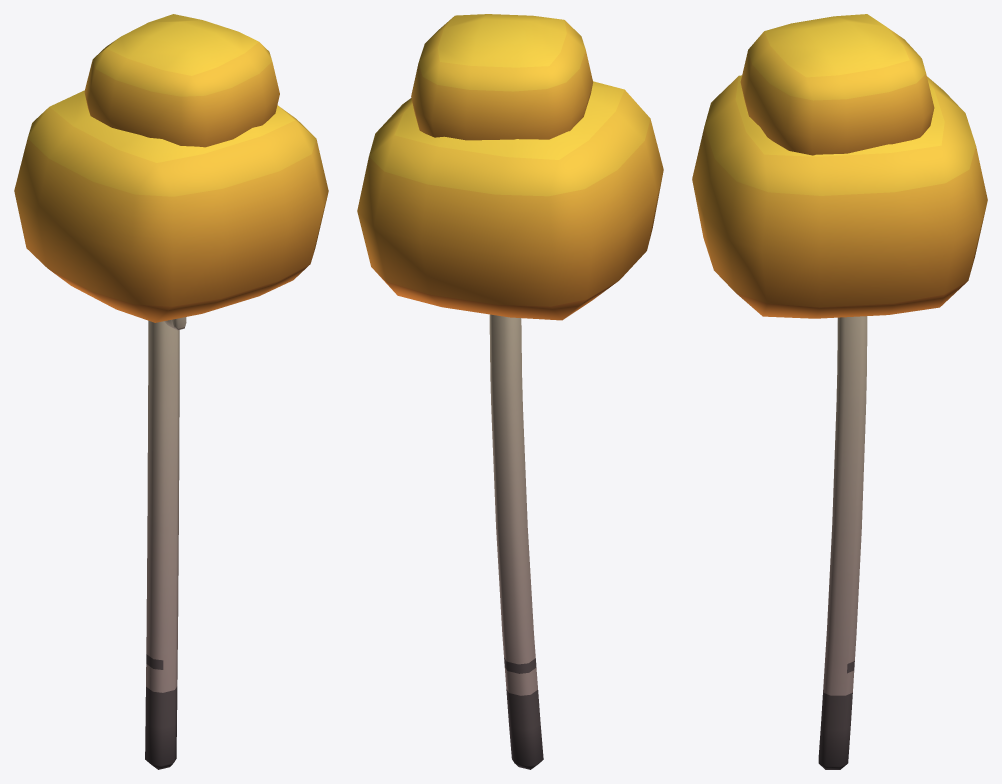
File: birch_tree_col2_09.fbx
3 renders of one model, left to right at view 1: azimuth 30°, elevation 25°; view 2: azimuth 150°, elevation 25°; view 3: azimuth 270°, elevation 25°, orthographic. The views are drawn at different scales.
Visible parts, largest first — view 1: birch_tree_col2_09; view 2: birch_tree_col2_09; view 3: birch_tree_col2_09.
Part boxes in pixels (left/top/right/bottom): birch_tree_col2_09: left=14, top=14, right=328, bottom=769; birch_tree_col2_09: left=357, top=14, right=663, bottom=769; birch_tree_col2_09: left=692, top=14, right=987, bottom=769.
Bounding box in the file's own units: 177 × 487 × 175.
1 material, 1 textured.
